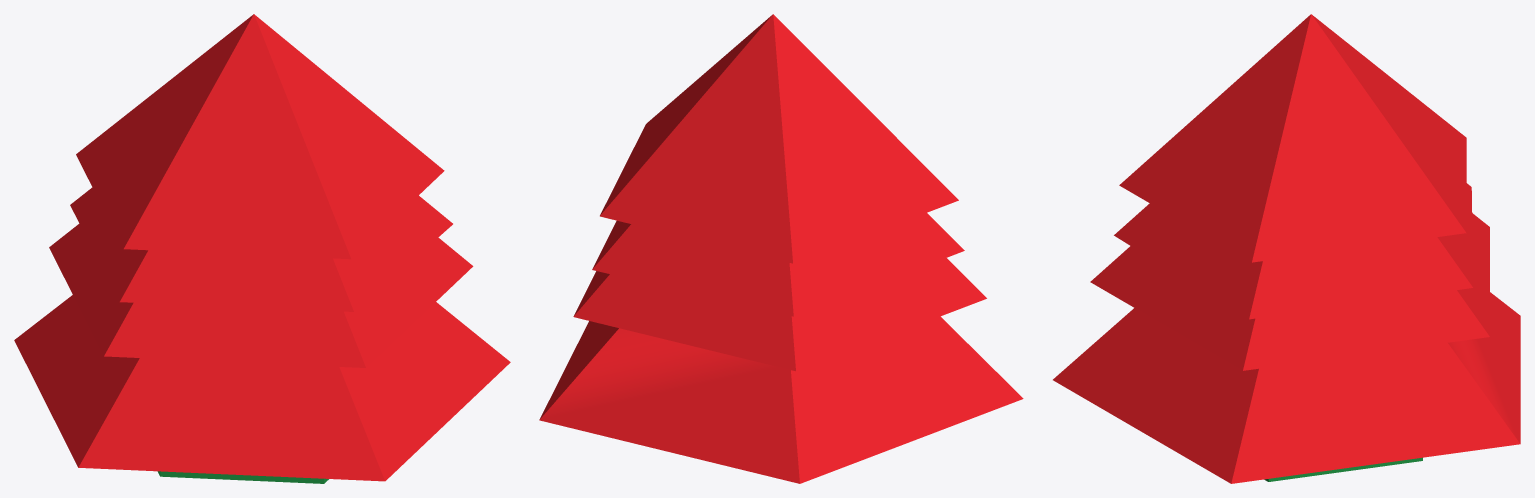
Rendered from SmallBush4.obj.
The picture shows the model from 3 angles, left to right: view 1: azimuth 30°, elevation 25°; view 2: azimuth 150°, elevation 25°; view 3: azimuth 270°, elevation 25°; orthographic projection. The views are drawn at different scales.
Parts seen in each view (by area): view 1: Cylinder.018; view 2: Cylinder.018; view 3: Cylinder.018.
Part boxes in pixels (box(x1,y1,x2,y2)): Cylinder.018: box(14, 14, 510, 483); Cylinder.018: box(539, 14, 1023, 483); Cylinder.018: box(1053, 14, 1520, 483).
Bounding box in the file's own units: 1.9 × 1.76 × 1.81.
